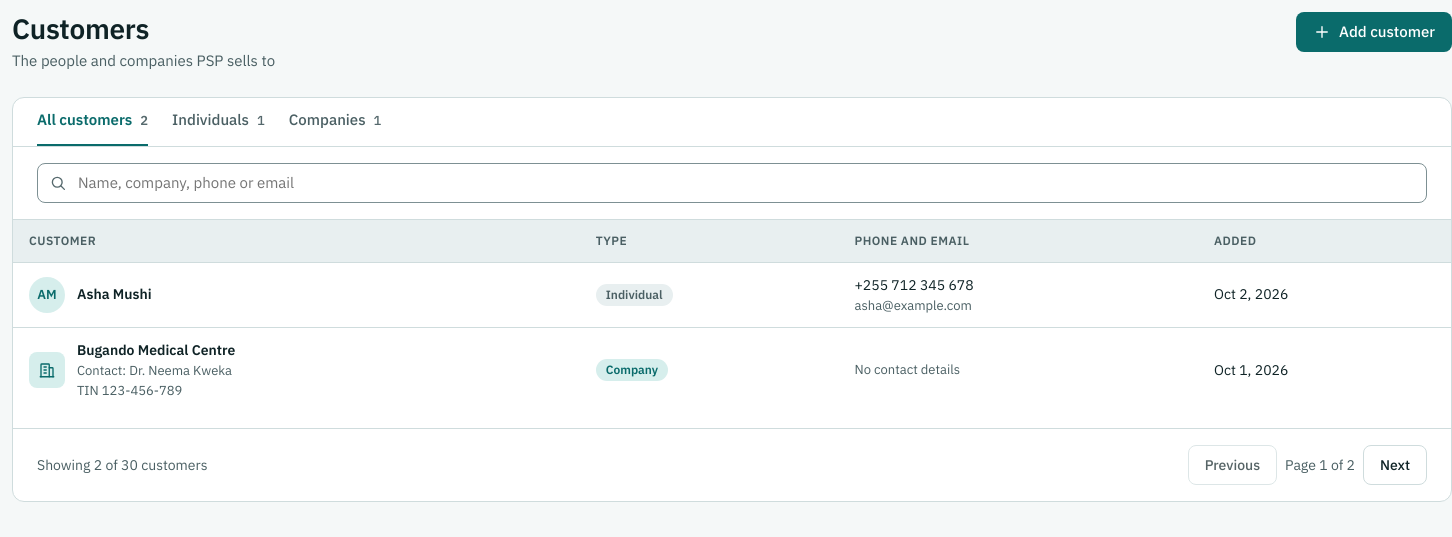
it: CustomersList › filters by type and searches after a pause, back on page 1
Expected: the text "Page 1 of 2" is shown, [1285,454,1355,476]
Click the button "Next" at [1395, 465], box [1363,445,1427,485]
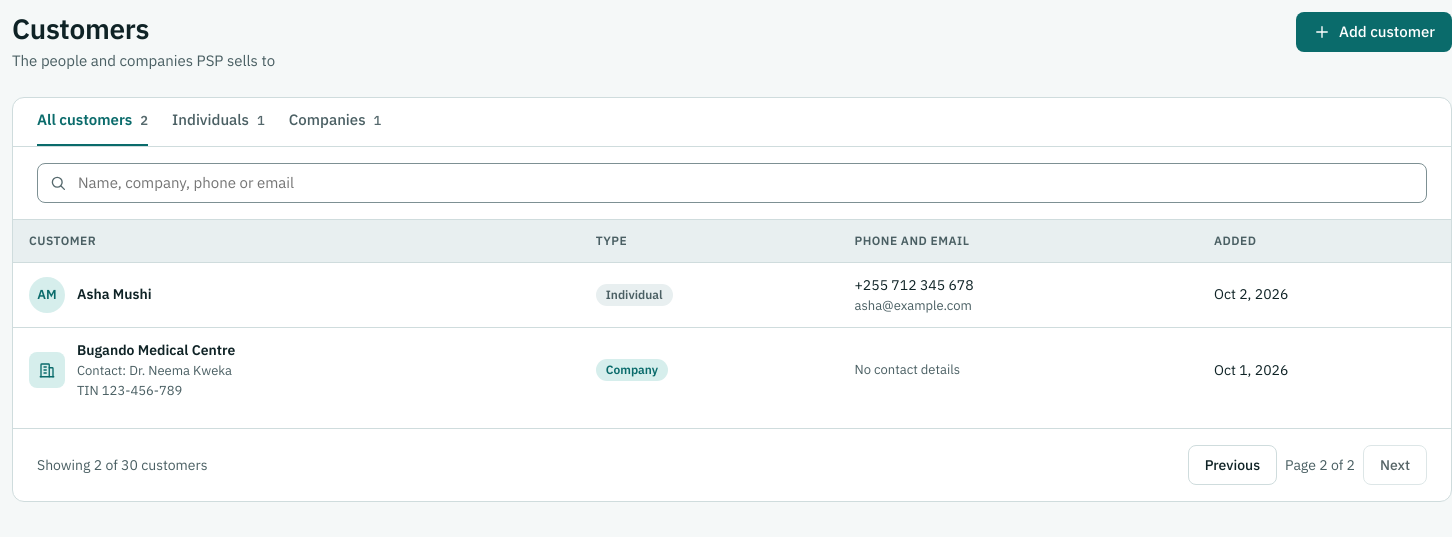
Expected: the text "Page 2 of 2" is shown, [1285,454,1355,476]
Click the button "Companies 1" at [335, 122], box [289,98,381,146]
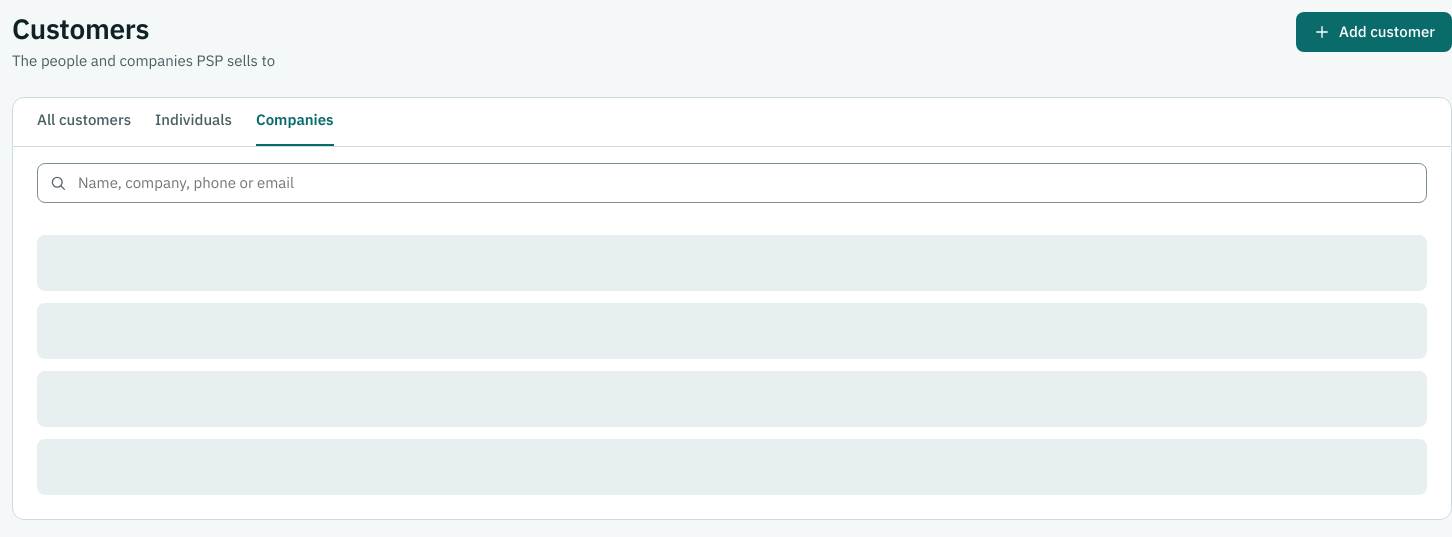
Expected: the link "Asha Mushi" is gone
Type " kweka " into the search field named "Search by name, company, phone or email" at [732, 182], box [37,162,1427,202]
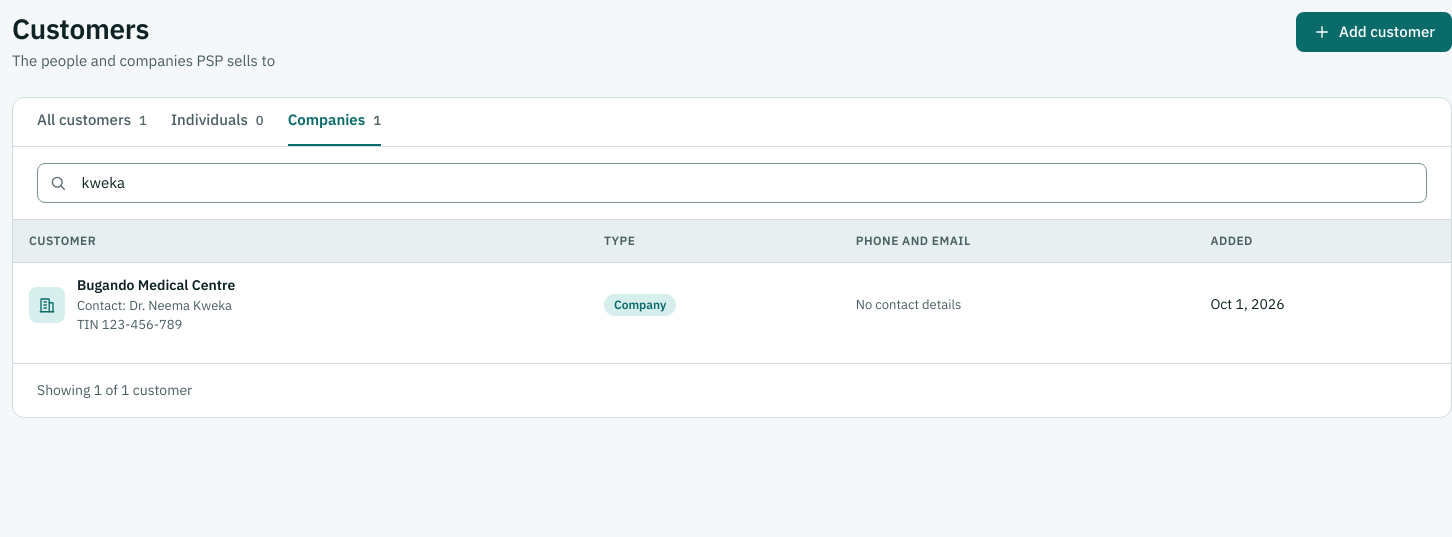
Expected: the button "All customers 1" is shown, [37,98,147,146]
